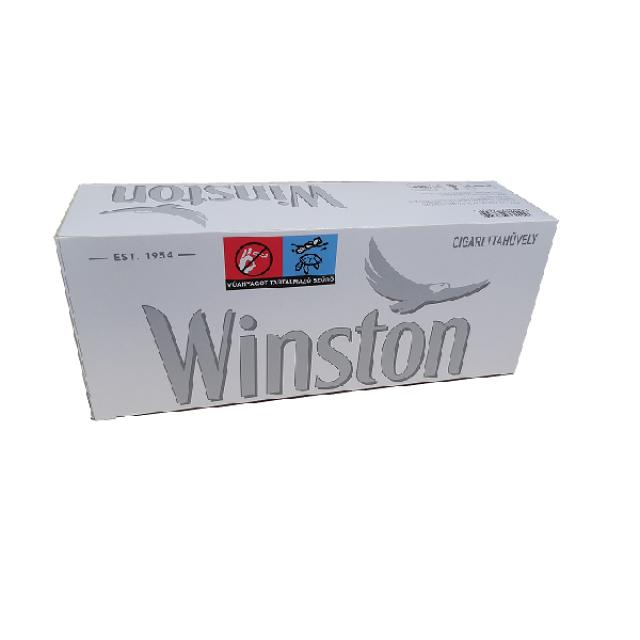winston: (51, 170, 562, 427)
